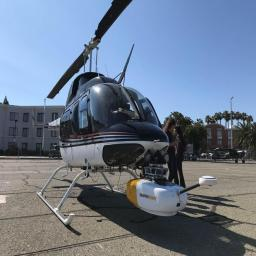helicopter: (37, 2, 220, 229)
